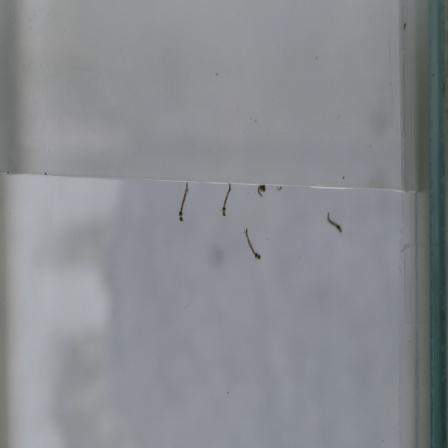Jentik-Nyamuk: (241, 226, 265, 264), (174, 179, 191, 226), (218, 179, 233, 219), (324, 210, 344, 238), (254, 182, 271, 202)
